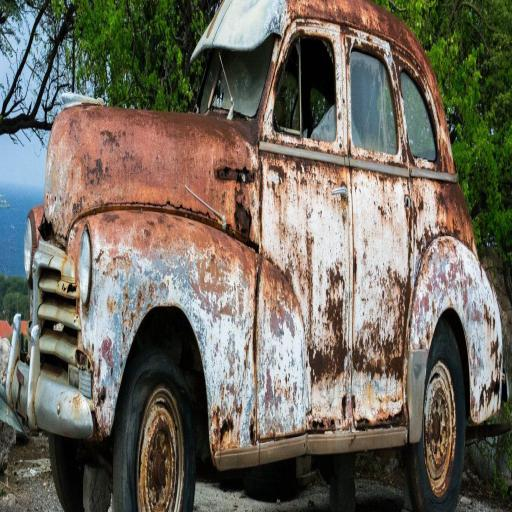segmentation: (0, 0, 512, 511)
